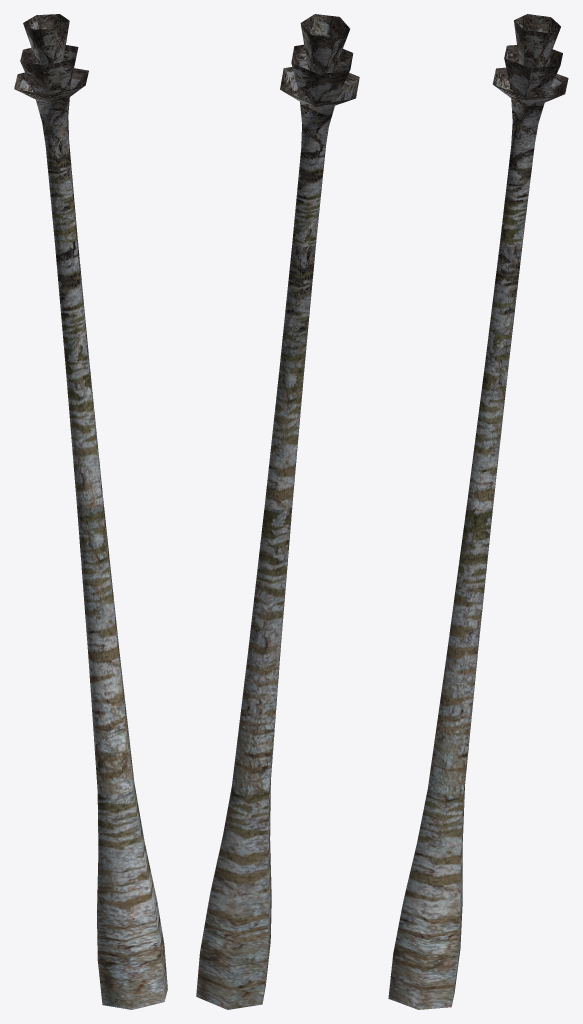
The model's file is tree_sea.obj.
3 renders of one model, left to right at view 1: azimuth 30°, elevation 25°; view 2: azimuth 210°, elevation 25°; view 3: azimuth 270°, elevation 25°, orthographic. The views are drawn at different scales.
Parts seen in each view (by area): view 1: tree.001; view 2: tree.001; view 3: tree.001.
Boxes of the visible parts, x1,y1,x2,y2 form: tree.001: (14,14,167,1009); tree.001: (196,14,359,1009); tree.001: (388,14,568,1009).
Size of the model in its own units: 20.41 by 191 by 32.32.
